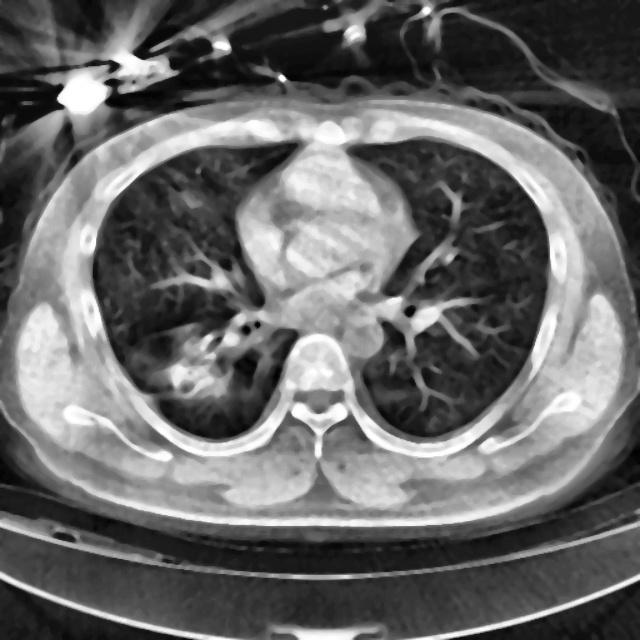covid: (1, 89, 638, 543)
